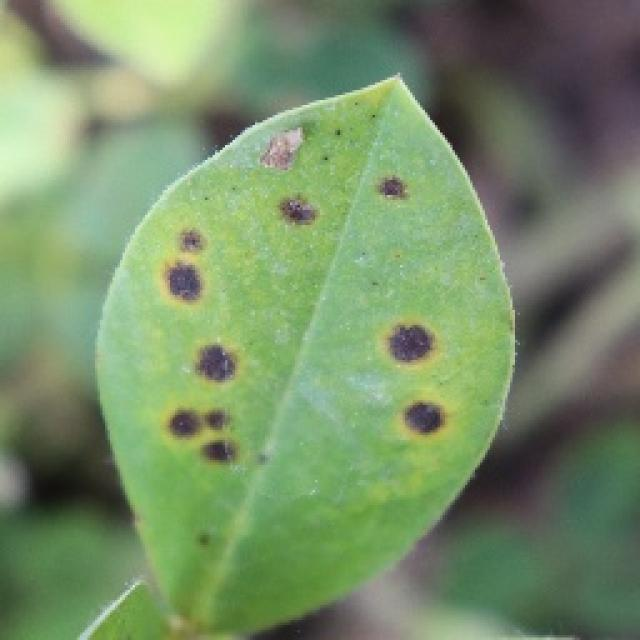Yellowish: (84, 80, 516, 524)
